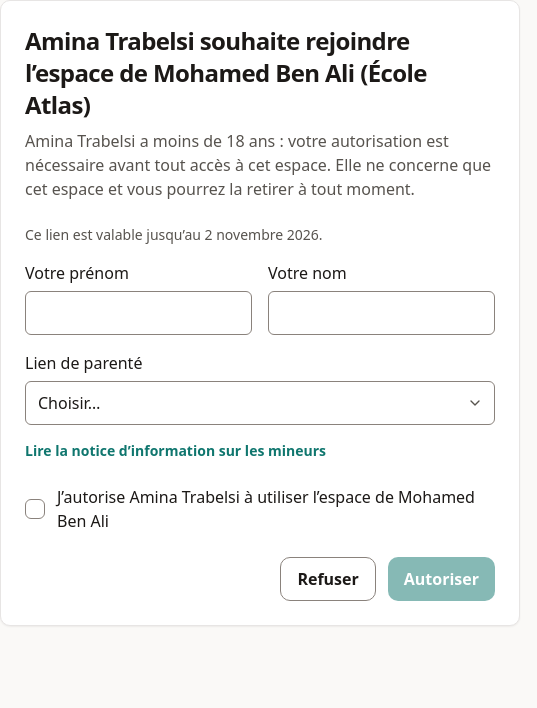
Test: GuardianConsentForm › a 422 on a field is shown on that field (translated); a 423 as a form error
Type "Karim" into the field labelled "Votre prénom". click: (138, 313)
box: [25,291,252,335]
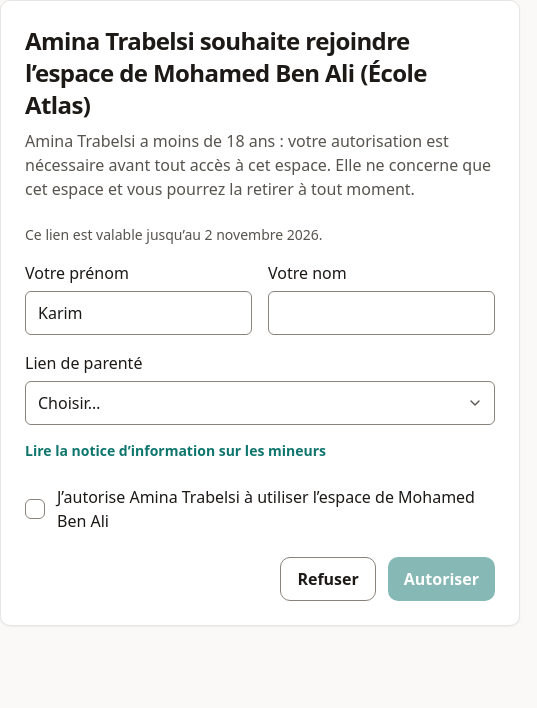
Type "Trabelsi" into the field labelled "Votre nom". click: (382, 313)
box: [268,291,495,335]
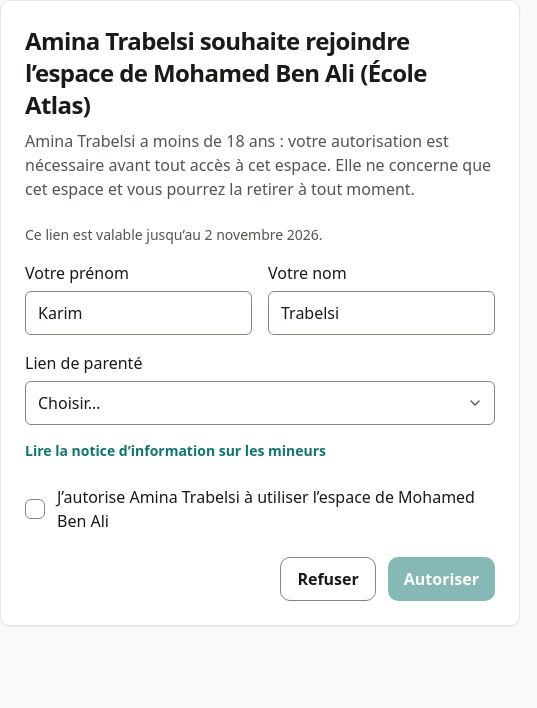
Select "Tuteur légal" in the dropdown labelled "Lien de parenté". click: (260, 403)
box: [25,381,495,425]
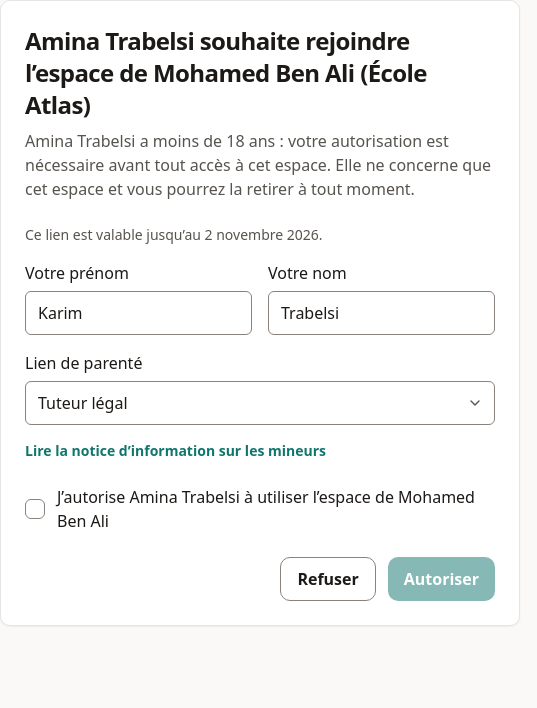
Click the checkbox. click: (35, 509)
box: [25,499,45,519]
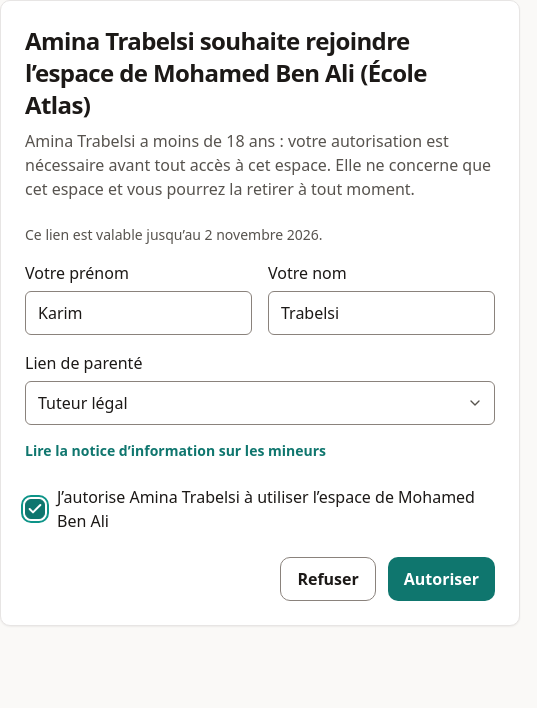
Click the button "Autoriser". click: (441, 579)
box: [388,557,495,601]
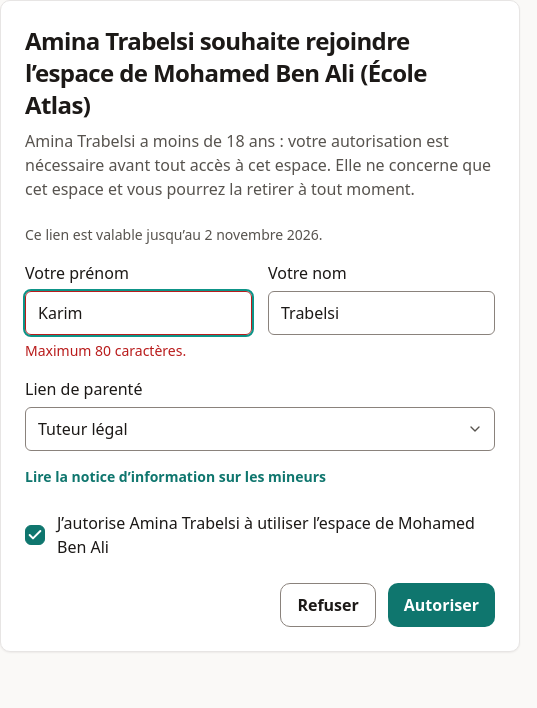
Now the text "Maximum 80 caractères." is shown, box [25,341,186,360]
Click the button "Autoriser". click: (441, 605)
box: [388,583,495,627]
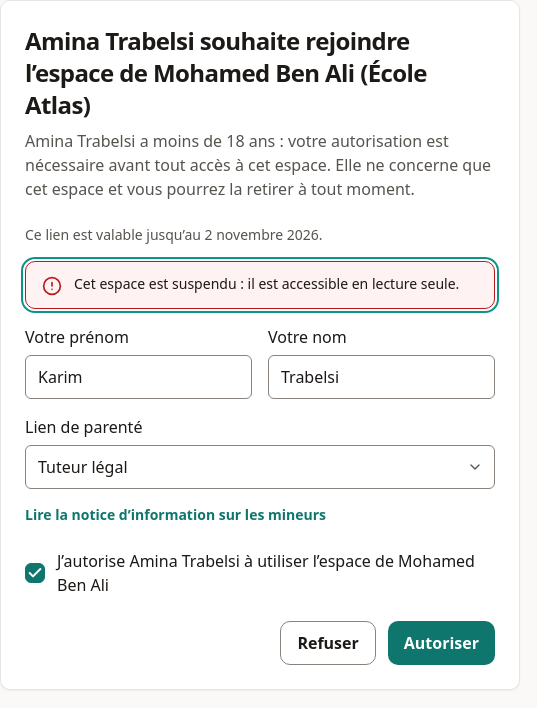
Now the text "Cet espace est suspendu : il est accessible en lecture seule." is shown, box [74,274,478,294]
